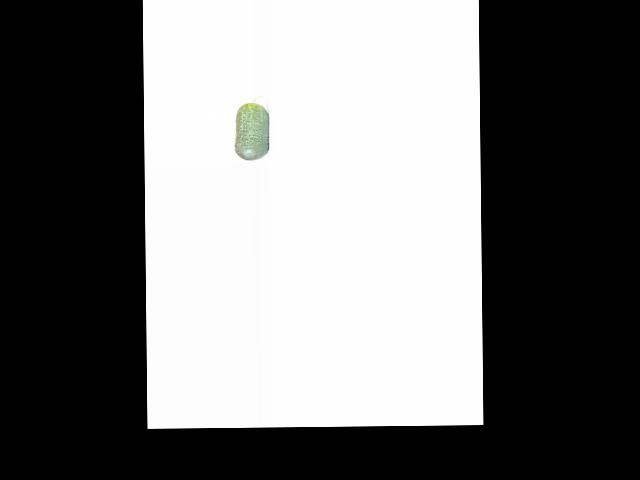cucumber: (233, 95, 269, 160)
